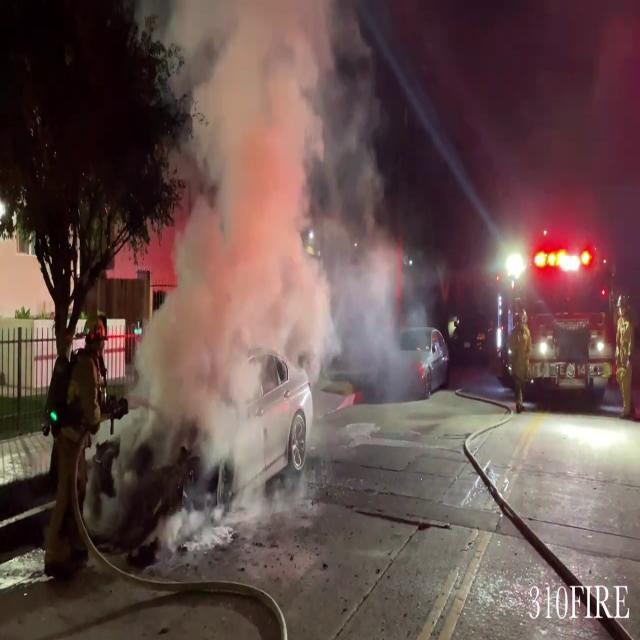Smoke: (105, 1, 415, 544)
